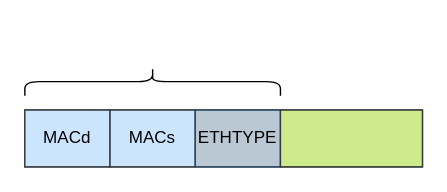
Some shapes in this 447 by 192 pixel diagram are drawn without their labels. The shapes that lost their labels are listed below. From the top down, each one's box as (x1, y1, x2, y2) in pixels, then its label:
(23, 66, 280, 96): Ethernet Header
(279, 109, 422, 167): PAYLOAD
